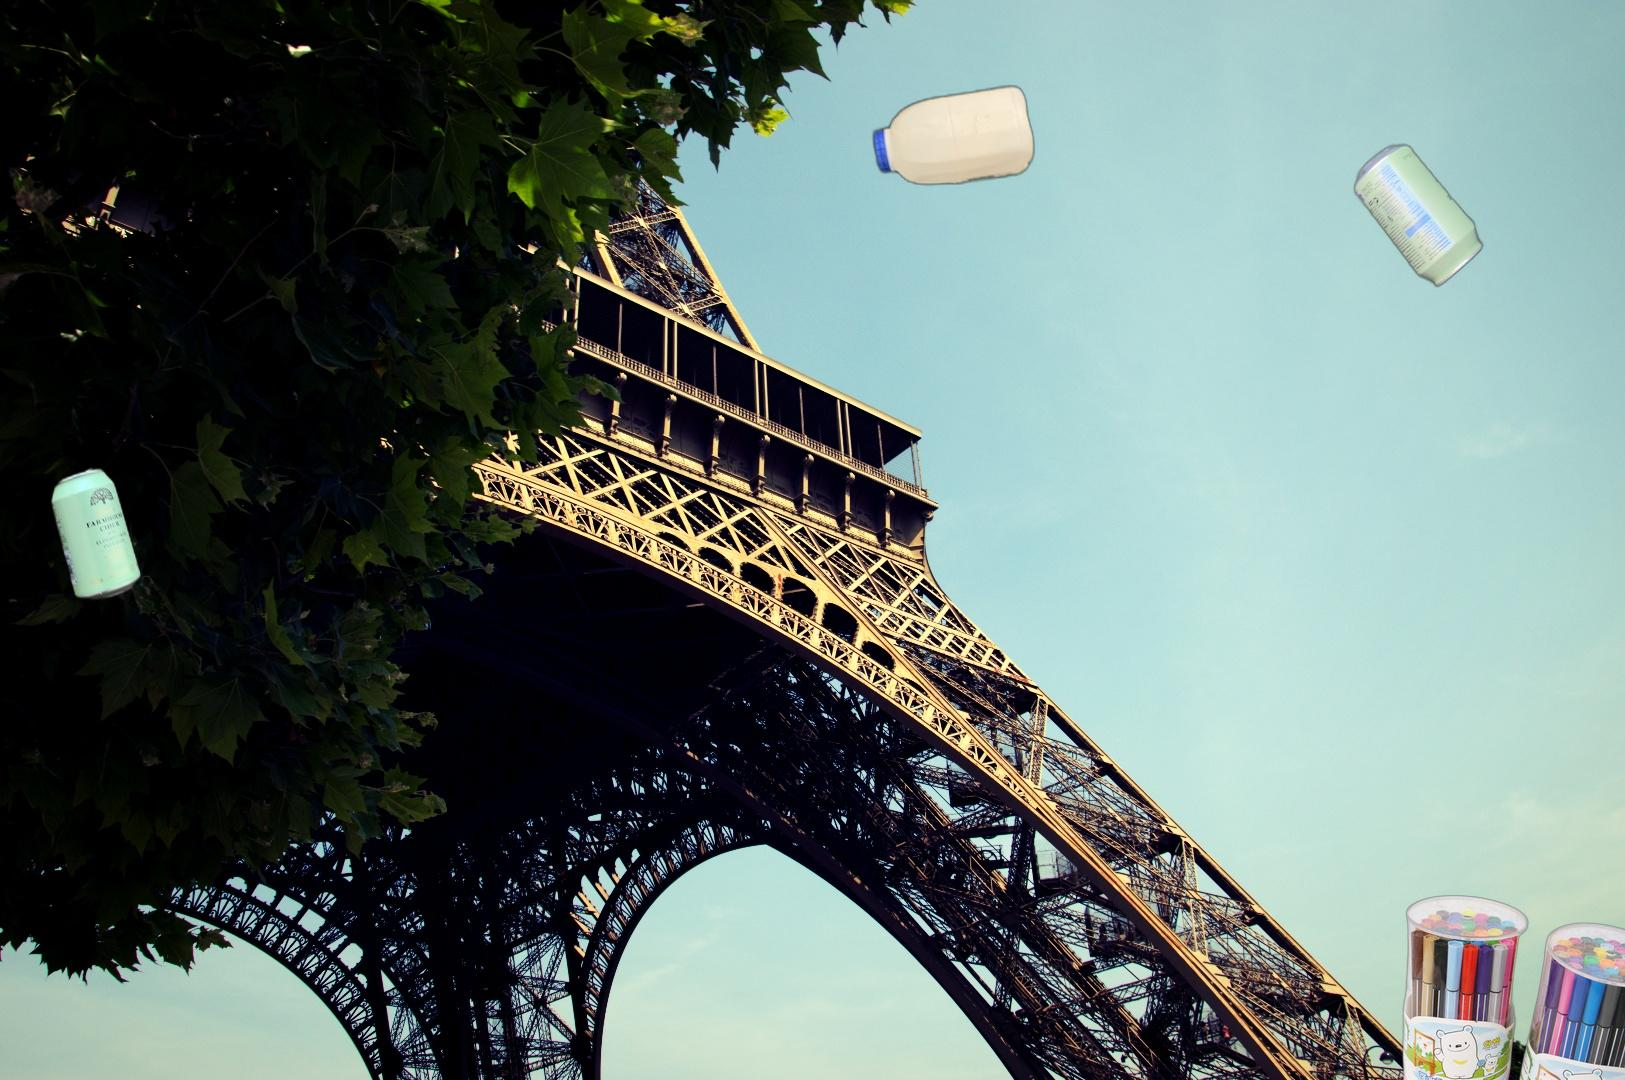metal-cans: (1350, 139, 1488, 292), (47, 463, 146, 606)
penholder: (1400, 892, 1625, 1080)
plastic-bottles: (868, 80, 1038, 190)
